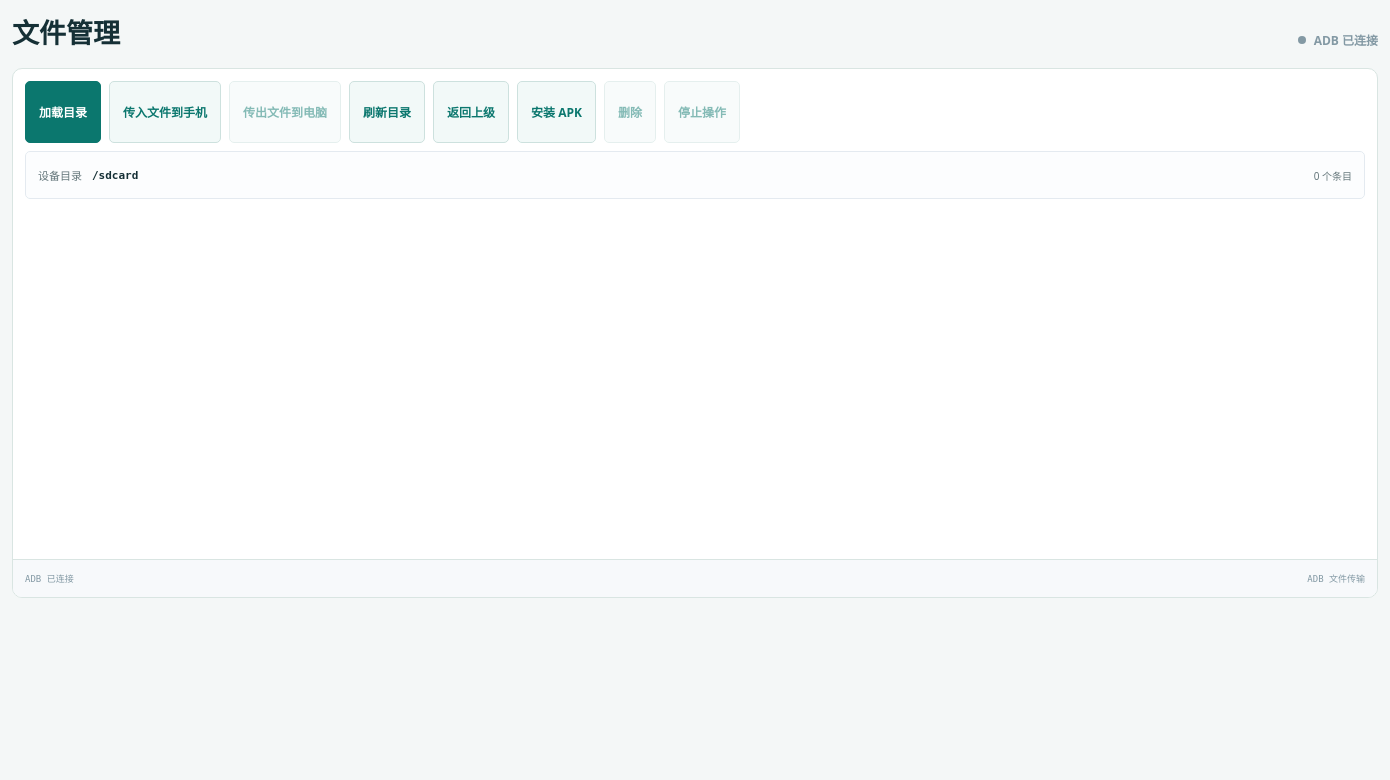
Test: FileManagerPage › 进入远端目录后读取目标路径
Click the button with class "nw-test-file-refresh" at (63, 112), box [25,81,101,143]
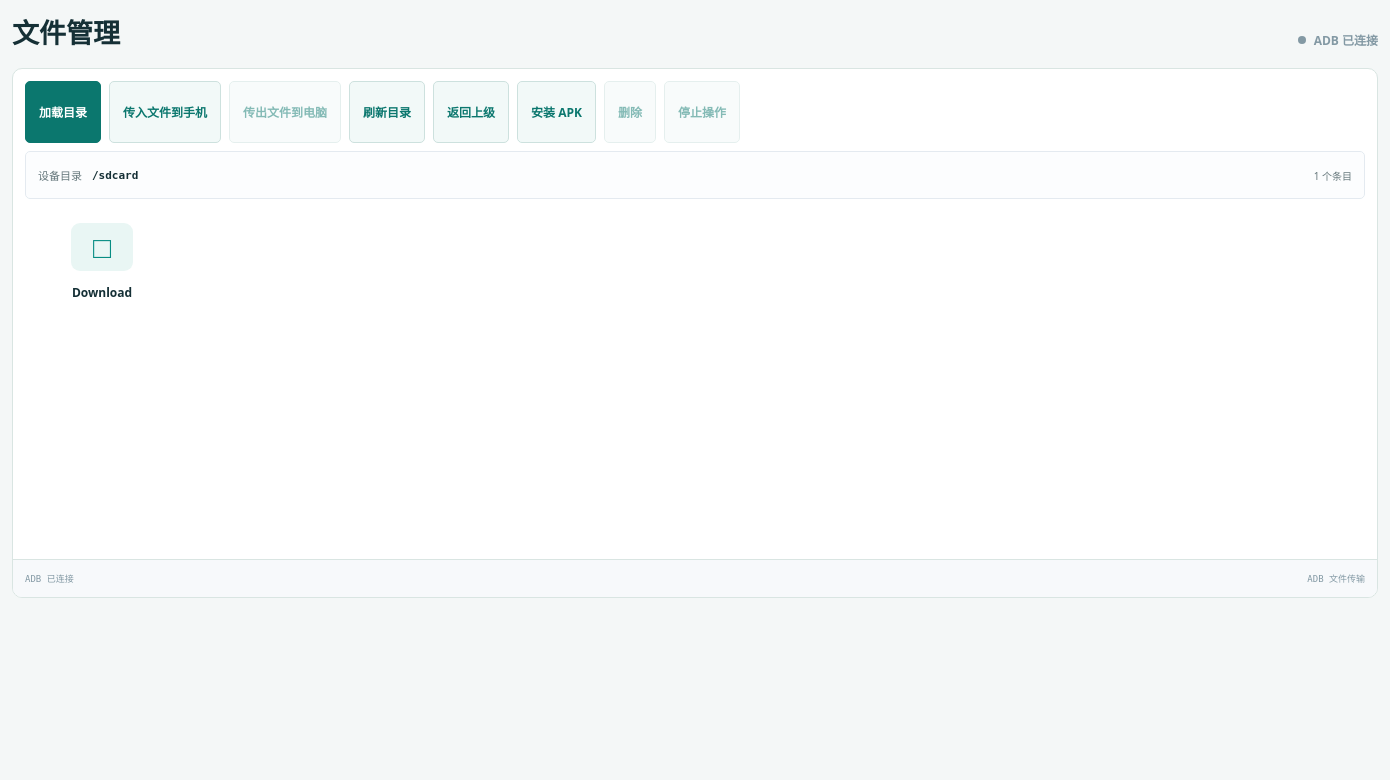
Click the button with class "nw-test-file-entry" at (102, 275), box [31,215,173,335]
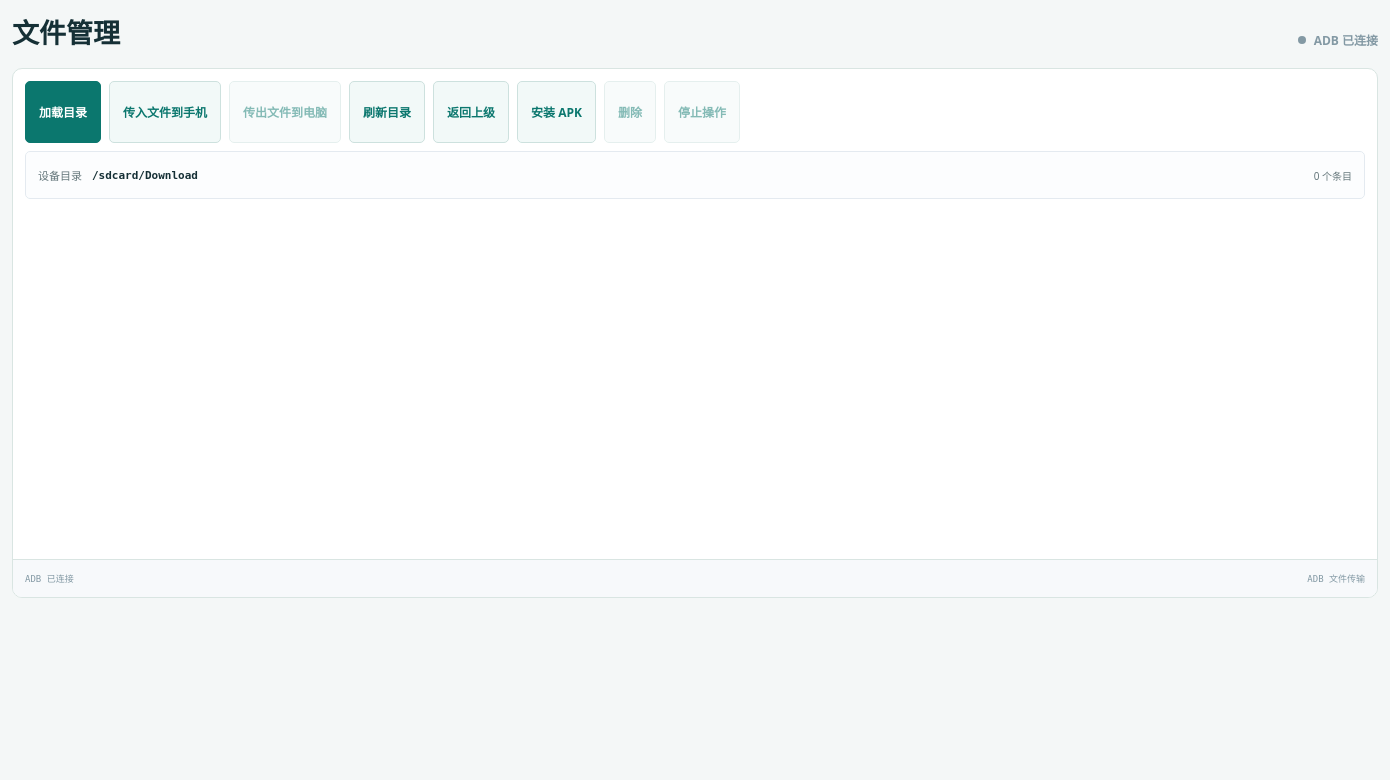
Result: the text "/sdcard/Download" is shown at [92,169,198,182]
